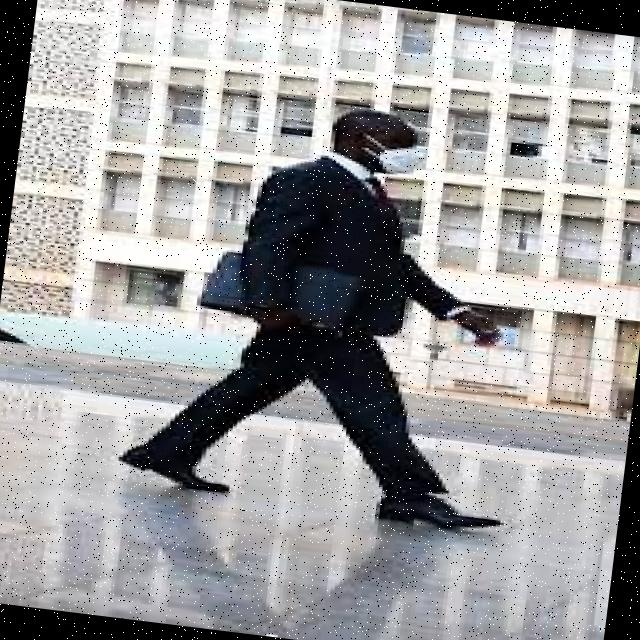Person: (114, 87, 550, 534)
